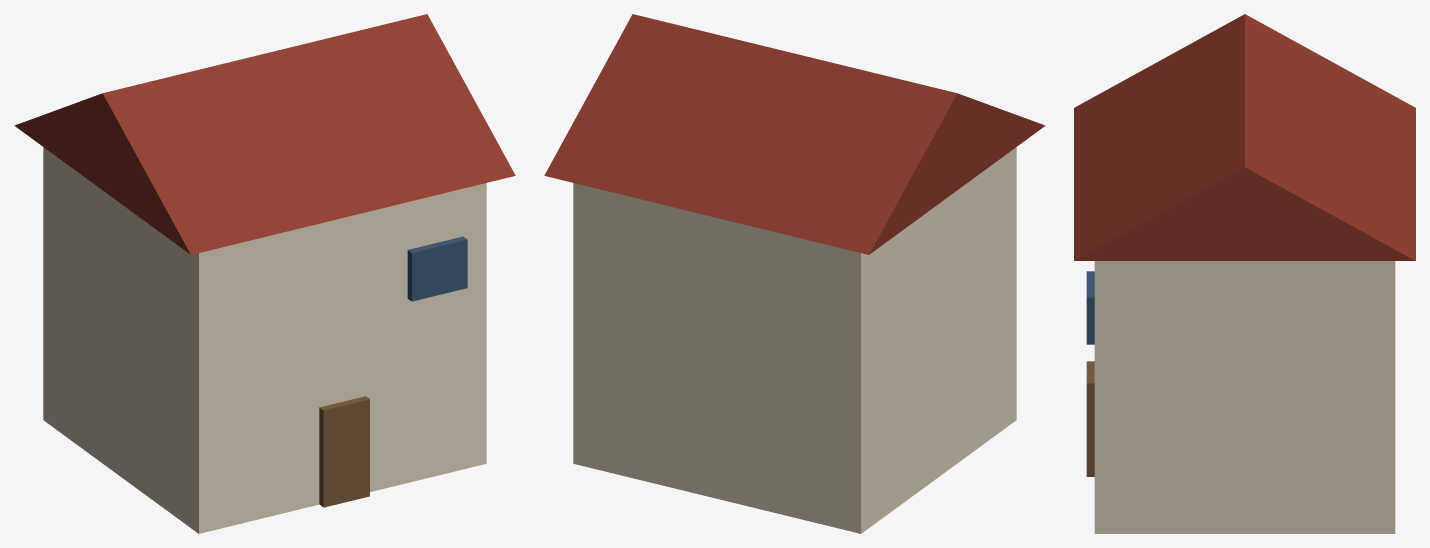
File: house_2000_a.glb
3 views of the same model, side by side, from view 1: azimuth 30°, elevation 25°; view 2: azimuth 150°, elevation 25°; view 3: azimuth 270°, elevation 25° (orthographic). The views are drawn at different scales.
Parts seen in each view (by area): view 1: Walls, Roof, Door, Window; view 2: Walls, Roof; view 3: Walls, Roof, Door, Window.
Part boxes in pixels (left/top/right/bottom): Walls: left=43, top=147, right=486, bottom=533; Roof: left=14, top=14, right=515, bottom=254; Door: left=319, top=396, right=369, bottom=507; Window: left=407, top=236, right=467, bottom=301; Walls: left=573, top=147, right=1016, bottom=533; Roof: left=544, top=14, right=1045, bottom=254; Walls: left=1094, top=261, right=1395, bottom=533; Roof: left=1074, top=14, right=1415, bottom=260; Door: left=1086, top=361, right=1094, bottom=476; Window: left=1086, top=271, right=1094, bottom=344.
Size of the model in its own units: 0.7 by 0.8 by 0.66.
